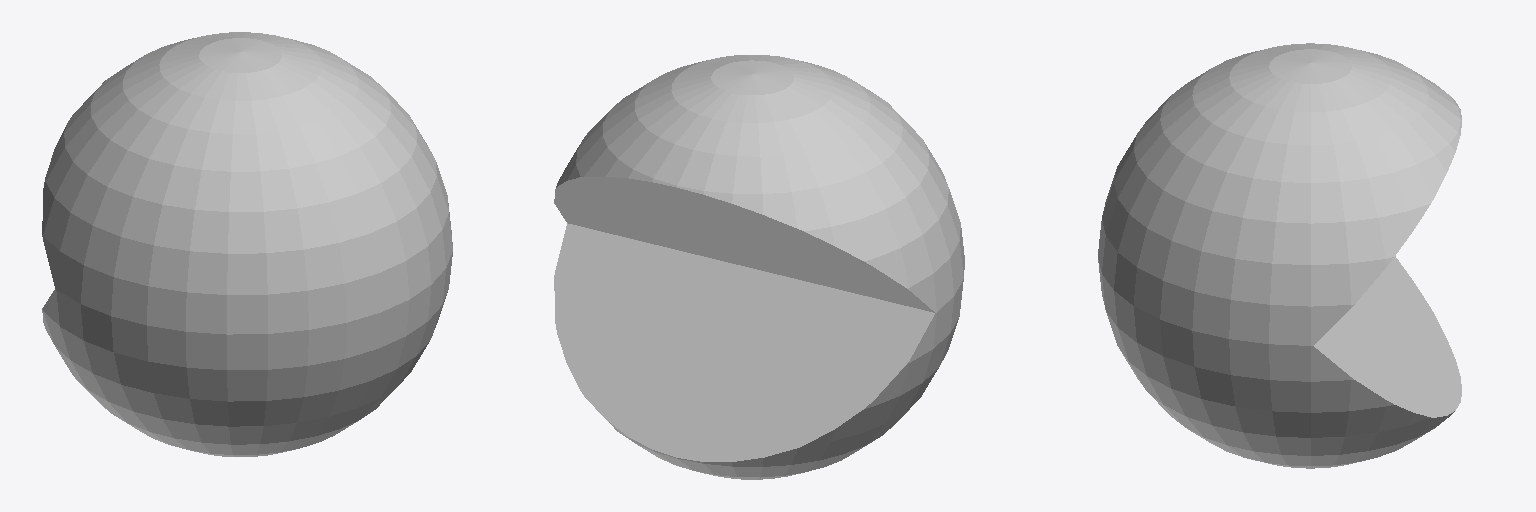
Rendered from pack-man-opened.obj.
3 views of the same model, side by side, from view 1: azimuth 30°, elevation 25°; view 2: azimuth 150°, elevation 25°; view 3: azimuth 270°, elevation 25° (orthographic).
Visible parts, largest first — view 1: Sphere; view 2: Sphere; view 3: Sphere.
Part boxes in pixels (x1,y1,x2,y2): Sphere: (42, 32, 452, 456); Sphere: (554, 55, 964, 479); Sphere: (1098, 43, 1461, 468).
Size of the model in its own units: 2 by 2 by 1.71.